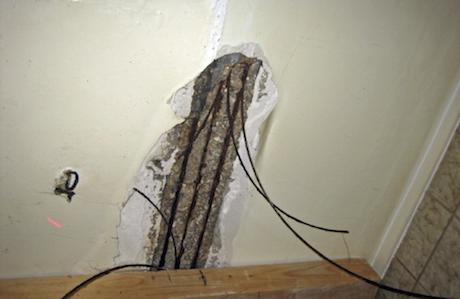exposed_rebar: (158, 86, 222, 268), (207, 68, 247, 223), (190, 234, 203, 267)
spalling: (115, 44, 278, 269)
